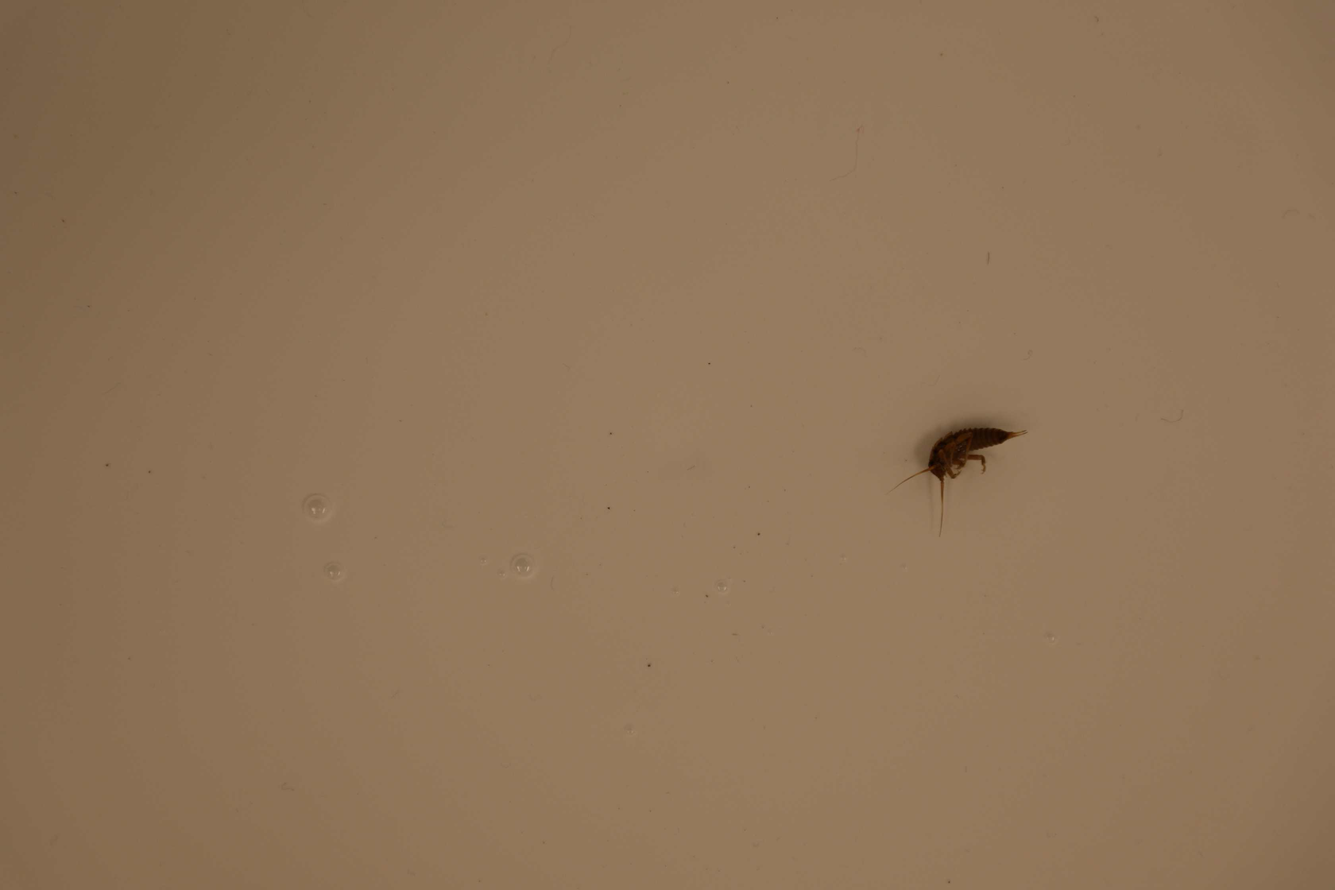Stonefly: (890, 418, 1025, 543)
